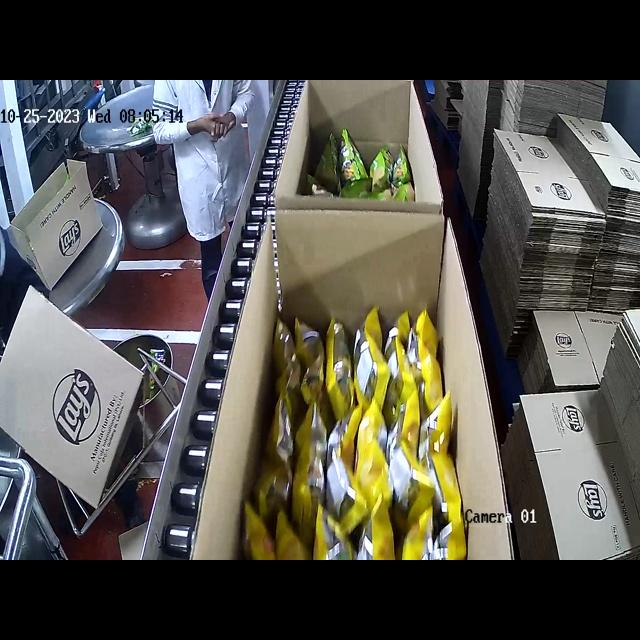salted: (260, 294, 440, 560)
yogurt: (317, 124, 421, 199)
